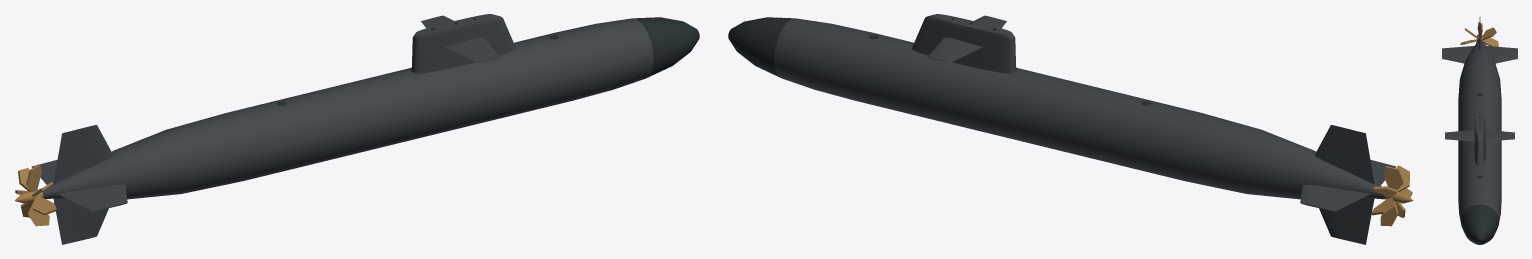
The model's file is cw90_los_angeles.glb.
3 renders of one model, left to right at view 1: azimuth 30°, elevation 25°; view 2: azimuth 150°, elevation 25°; view 3: azimuth 270°, elevation 25°, orthographic. The views are drawn at different scales.
Parts seen in each view (by area): view 1: submarine_coating, boot_topping, bronze; view 2: submarine_coating, boot_topping, bronze; view 3: submarine_coating, boot_topping, bronze.
Boxes of the visible parts, x1=… form: submarine_coating: x1=31, y1=14, x2=653, y2=244; boot_topping: x1=277, y1=17, x2=699, y2=105; bronze: x1=14, y1=164, x2=56, y2=226; submarine_coating: x1=774, y1=14, x2=1396, y2=244; boot_topping: x1=728, y1=17, x2=1150, y2=105; bronze: x1=1371, y1=165, x2=1413, y2=226; submarine_coating: x1=1442, y1=17, x2=1517, y2=222; boot_topping: x1=1461, y1=93, x2=1498, y2=244; bronze: x1=1460, y1=22, x2=1498, y2=46.
Bounding box in the file's own units: 10 × 1.76 × 1.56.
